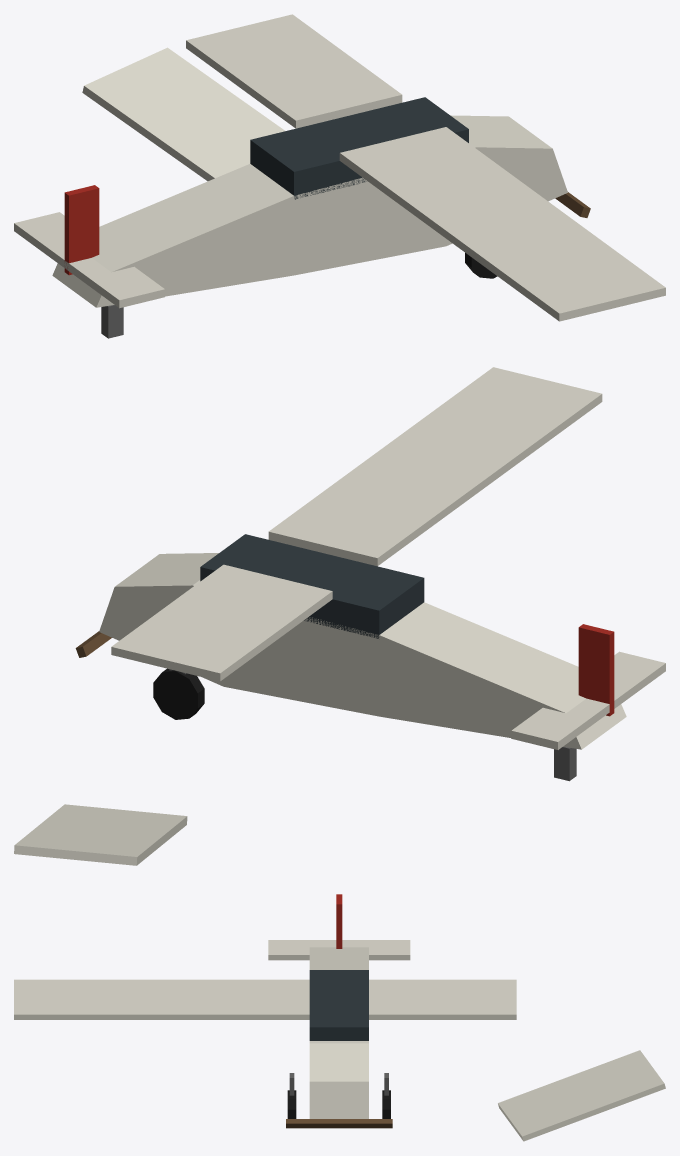
Rendered from carcaca_teco_teco.glb.
3 views of the same model, one above another, from view 1: azimuth 30°, elevation 25°; view 2: azimuth 150°, elevation 25°; view 3: azimuth 270°, elevation 25° (orthographic). The views are drawn at different scales.
Visible parts, largest first — view 1: carcaca_teco_teco; view 2: carcaca_teco_teco; view 3: carcaca_teco_teco.
Boxes of the visible parts, x1,y1,x2,y2 form: carcaca_teco_teco: [14, 14, 665, 338]; carcaca_teco_teco: [14, 367, 665, 865]; carcaca_teco_teco: [14, 894, 665, 1141].
Size of the model in its own units: 6.37 by 2.17 by 11.02.
